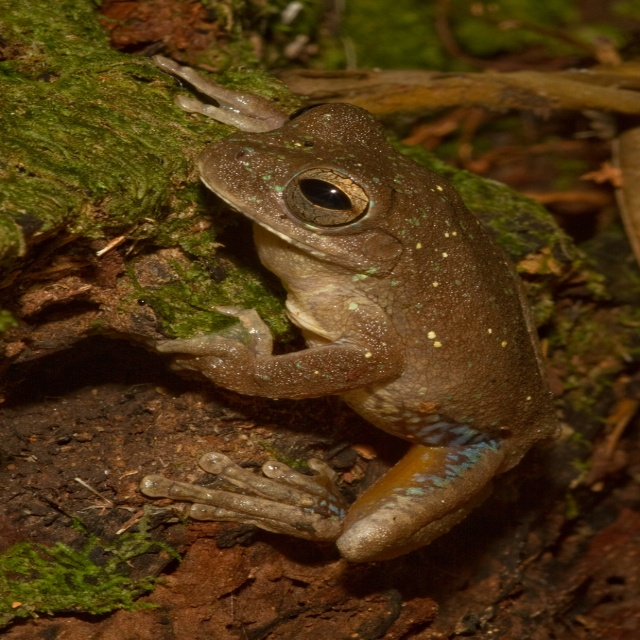Frog: (156, 58, 572, 558)
